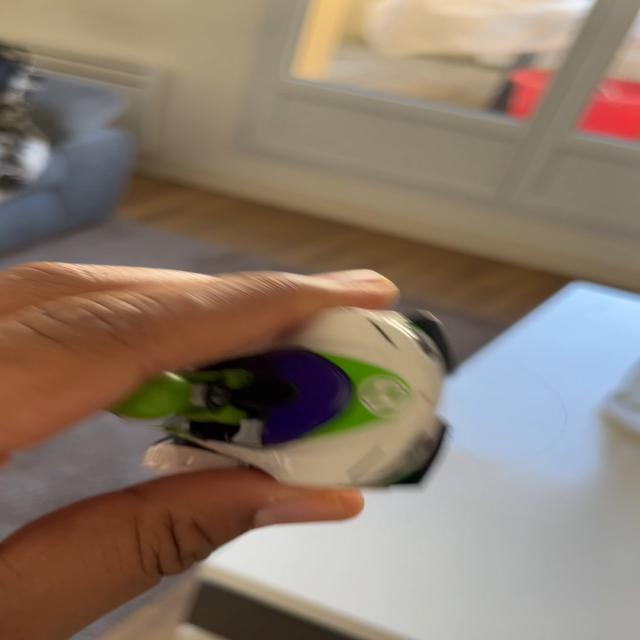yoshi: (69, 332, 467, 500)
